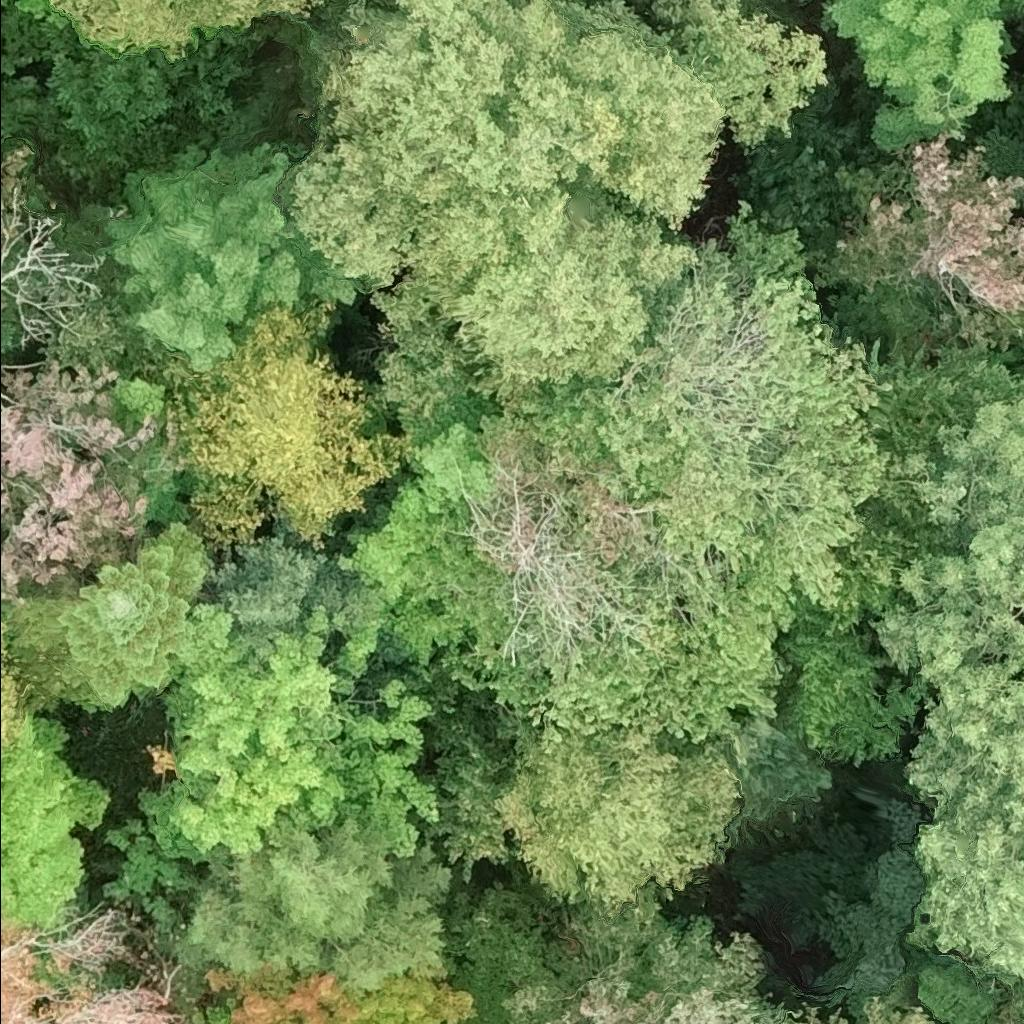crown: (355, 193, 898, 775), (285, 0, 831, 417), (101, 599, 441, 904), (781, 349, 1023, 765), (870, 398, 1023, 1022), (158, 294, 411, 552), (100, 136, 360, 371), (440, 880, 790, 1023), (184, 815, 457, 993), (491, 727, 740, 914), (0, 352, 160, 605), (2, 519, 212, 711), (819, 0, 1014, 151), (0, 707, 113, 931), (0, 905, 193, 1023), (188, 960, 487, 1023), (48, 0, 353, 56), (0, 619, 33, 751), (861, 995, 939, 1023), (775, 1000, 847, 1023), (0, 0, 66, 24), (740, 0, 793, 16), (625, 0, 654, 11), (1004, 0, 1023, 13), (1018, 316, 1023, 357), (365, 0, 383, 2)
